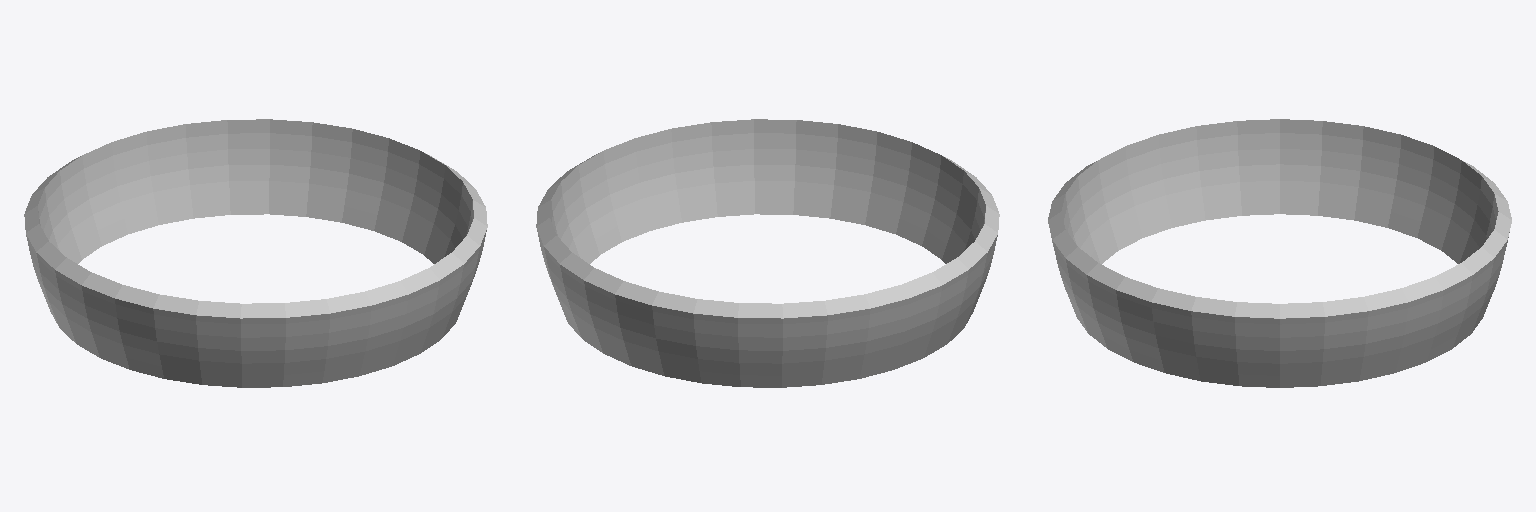
Rendered from mid_part.obj.
3 views of the same model, side by side, from view 1: azimuth 30°, elevation 25°; view 2: azimuth 150°, elevation 25°; view 3: azimuth 270°, elevation 25° (orthographic).
Visible parts, largest first — view 1: ground_bot; view 2: ground_bot; view 3: ground_bot.
Part boxes in pixels (left/top/right/bottom): ground_bot: left=24, top=119, right=487, bottom=387; ground_bot: left=536, top=119, right=999, bottom=387; ground_bot: left=1048, top=119, right=1511, bottom=387.
Bounding box in the file's own units: 48.44 × 10.25 × 48.44.